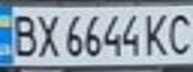4: (121, 10, 145, 57), (103, 10, 124, 57)
6: (81, 11, 106, 58), (60, 11, 84, 58)
B: (6, 10, 42, 58)
C: (163, 9, 193, 56)
K: (142, 9, 172, 57)
X: (33, 10, 63, 58)
